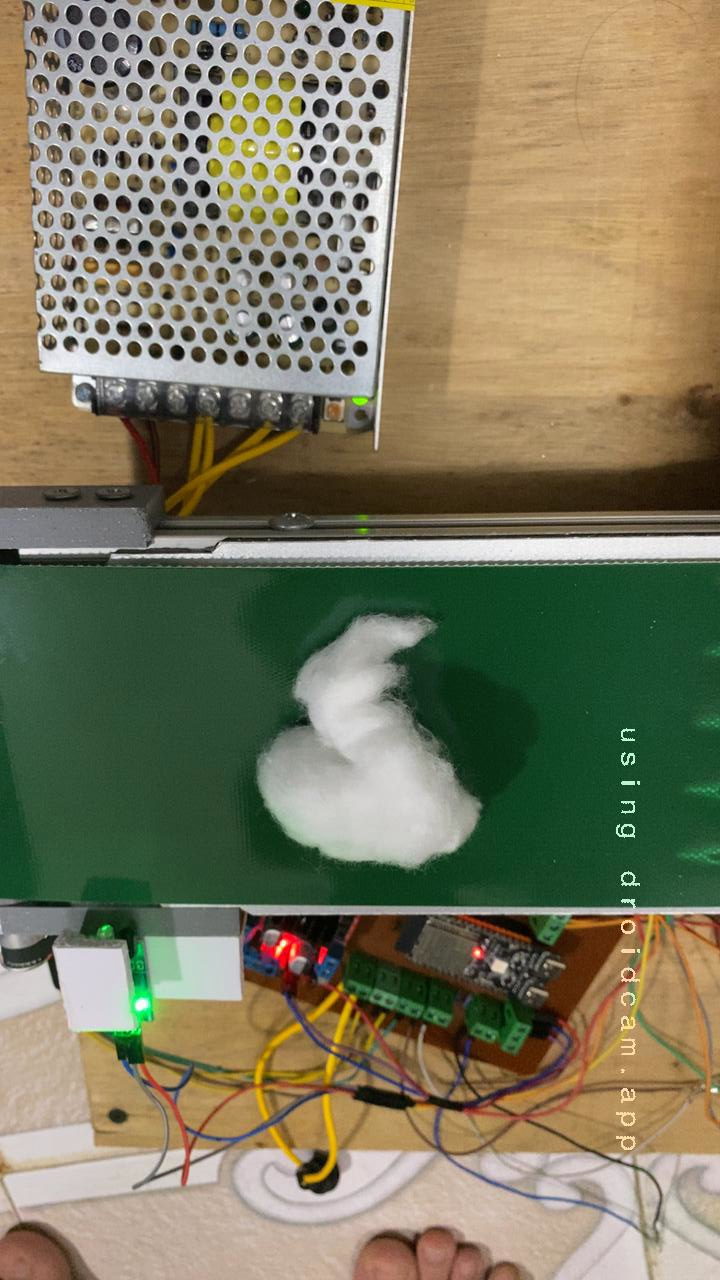cotton: (227, 592, 498, 881)
